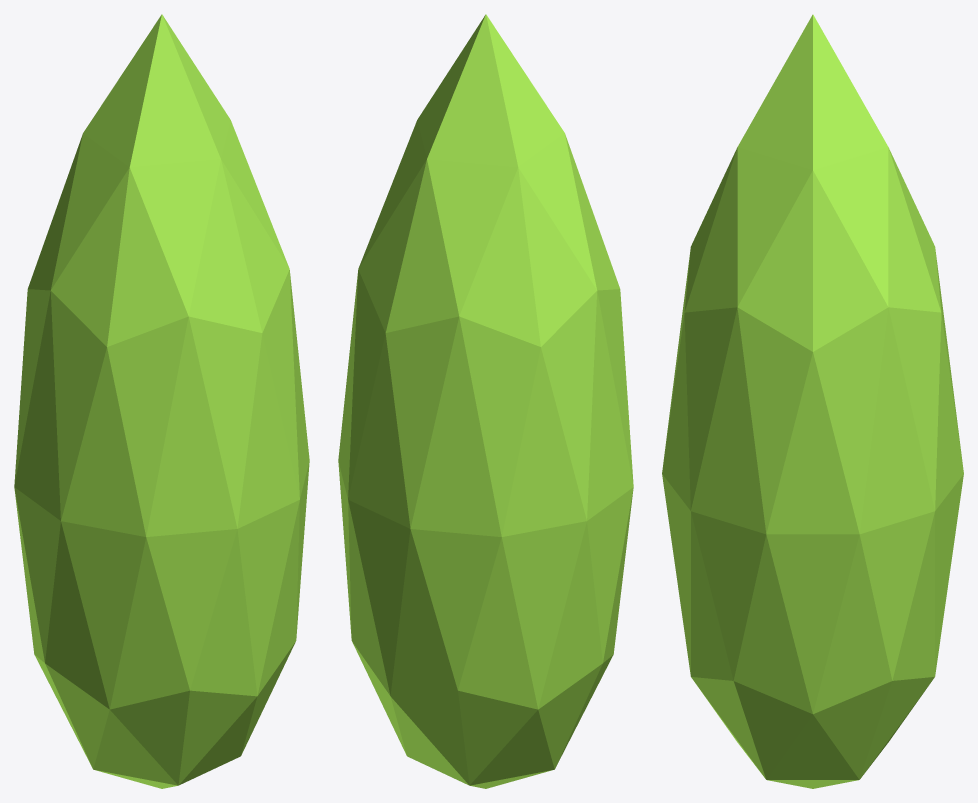
3 renders of one model, left to right at view 1: azimuth 30°, elevation 25°; view 2: azimuth 150°, elevation 25°; view 3: azimuth 270°, elevation 25°, orthographic.
Visible parts, largest first — view 1: Icosphere; view 2: Icosphere; view 3: Icosphere.
Boxes of the visible parts, <box> form: Icosphere: <box>14,14,309,788</box>; Icosphere: <box>338,14,633,788</box>; Icosphere: <box>662,14,963,788</box>.
Size of the model in its own units: 0.2692 by 0.8015 by 0.283.
